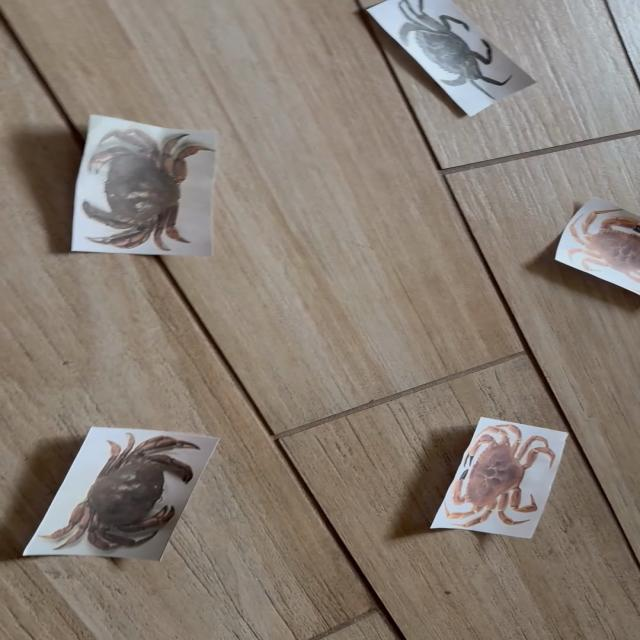egc: (367, 0, 535, 115)
